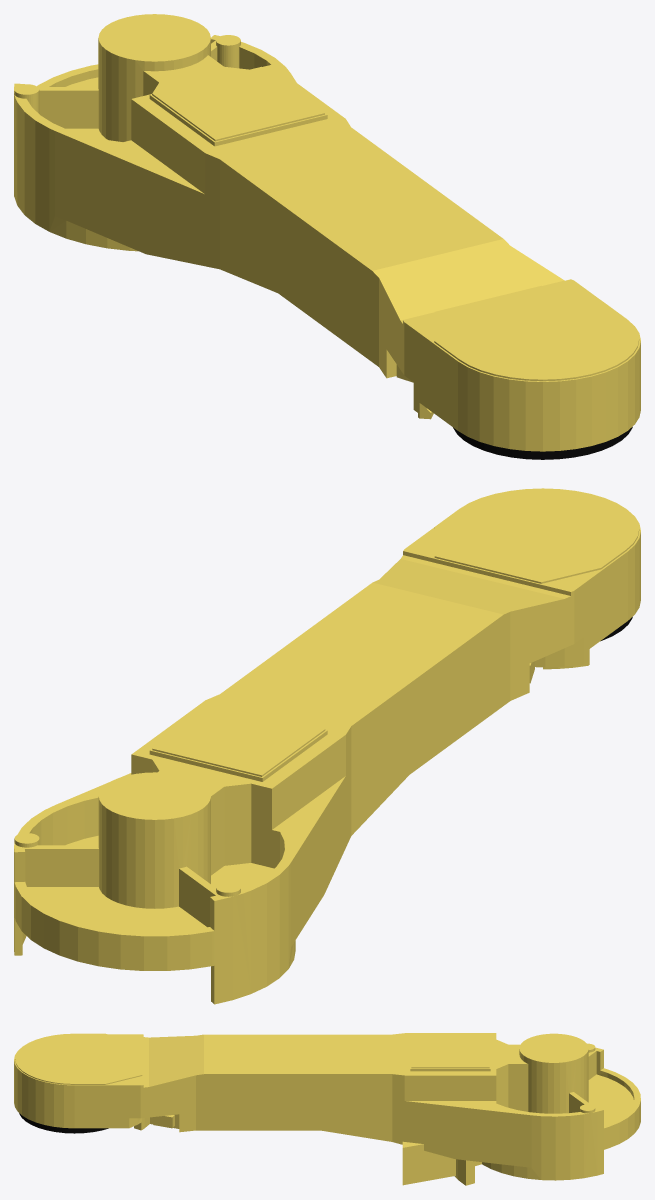
3 views of the same model, one above another, from view 1: azimuth 30°, elevation 25°; view 2: azimuth 150°, elevation 25°; view 3: azimuth 270°, elevation 25° (orthographic). The views are drawn at different scales.
Visible parts, largest first — view 1: /Link2/Link2-mesh/0, /Link2/Link2-mesh/1; view 2: /Link2/Link2-mesh/0; view 3: /Link2/Link2-mesh/0, /Link2/Link2-mesh/1.
Boxes of the visible parts, x1,y1,x2,y2 form: /Link2/Link2-mesh/0: (14, 14, 640, 451); /Link2/Link2-mesh/1: (453, 427, 632, 459); /Link2/Link2-mesh/0: (14, 488, 640, 1004); /Link2/Link2-mesh/0: (14, 1033, 640, 1185); /Link2/Link2-mesh/1: (19, 1113, 108, 1133).
Bounding box in the file's own units: 0.3159 × 0.225 × 1.14.
